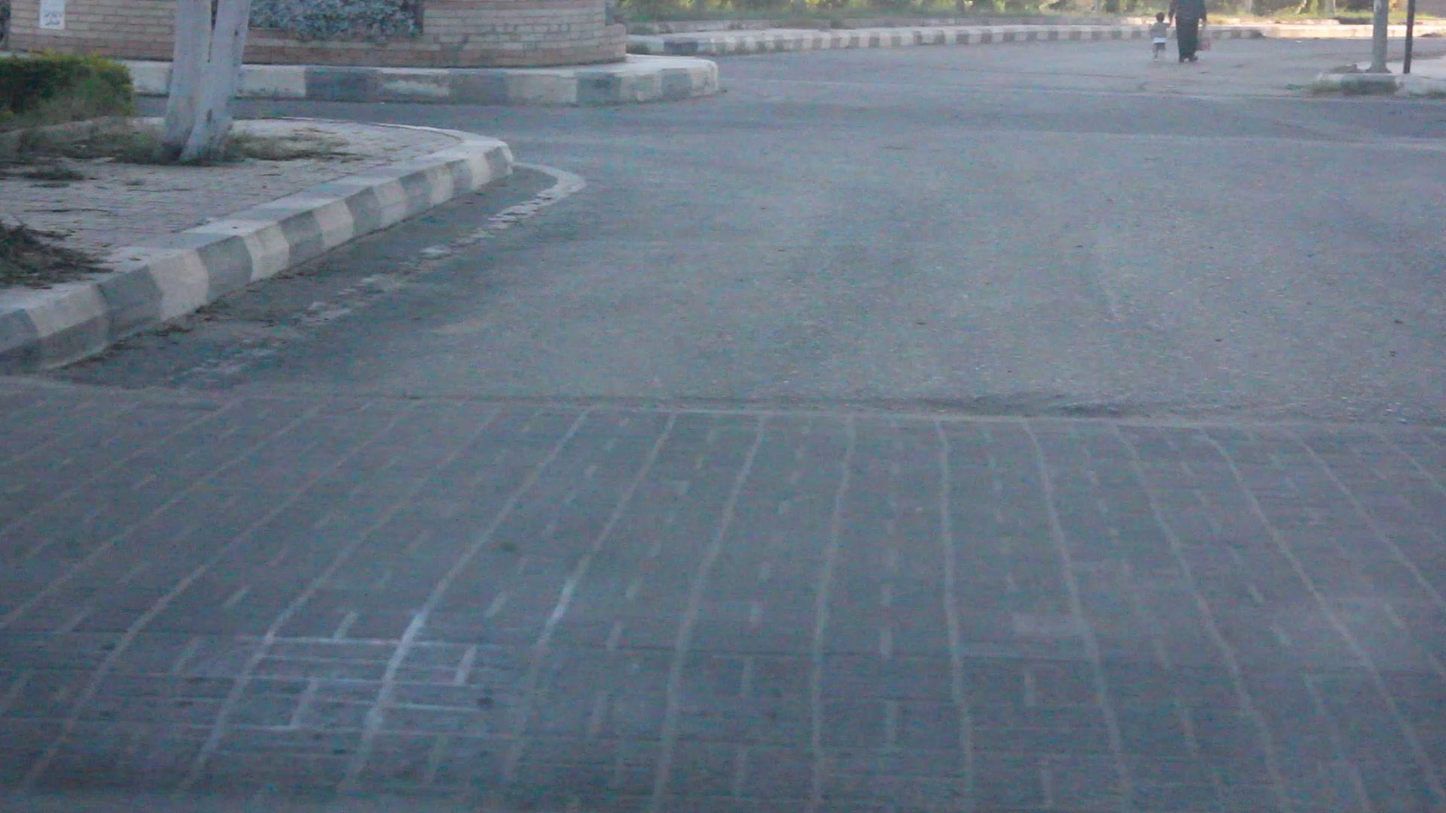Bump: (0, 366, 1445, 812)
